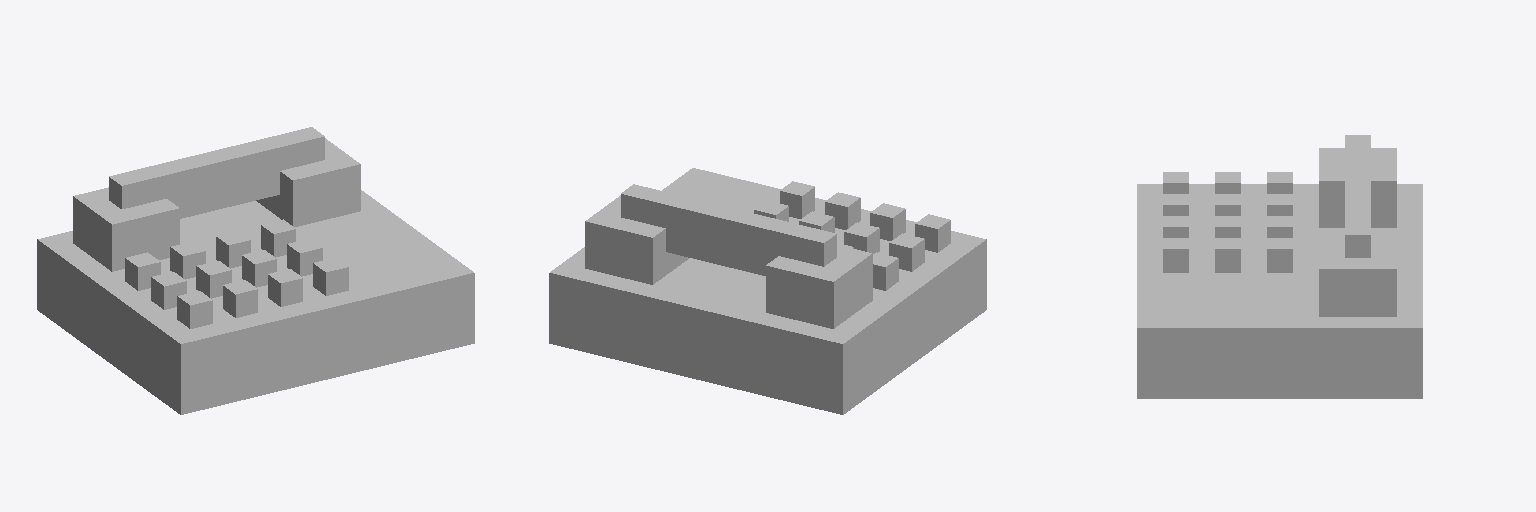
File: phone.obj
3 renders of one model, left to right at view 1: azimuth 30°, elevation 25°; view 2: azimuth 150°, elevation 25°; view 3: azimuth 270°, elevation 25°, orthographic.
Visible parts, largest first — view 1: phone; view 2: phone; view 3: phone.
Part boxes in pixels (left/top/right/bottom): phone: left=37, top=127, right=474, bottom=414; phone: left=549, top=168, right=986, bottom=414; phone: left=1137, top=135, right=1422, bottom=398.
Size of the model in its own units: 13 by 6 by 11.